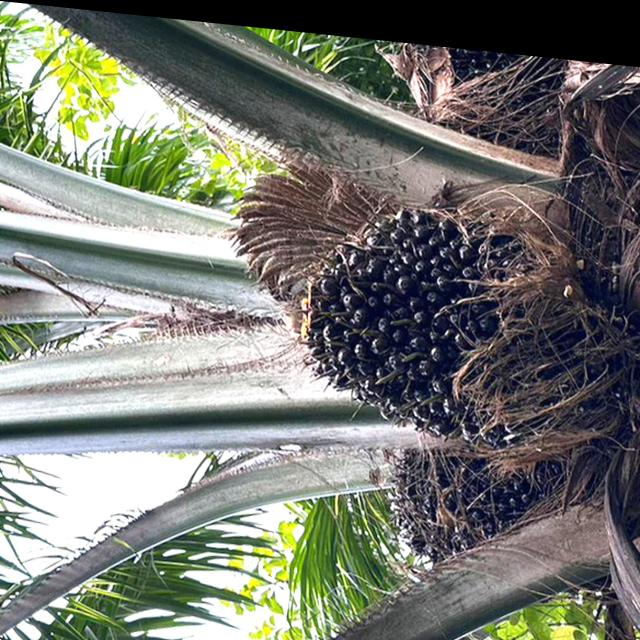almost: (292, 183, 548, 446)
